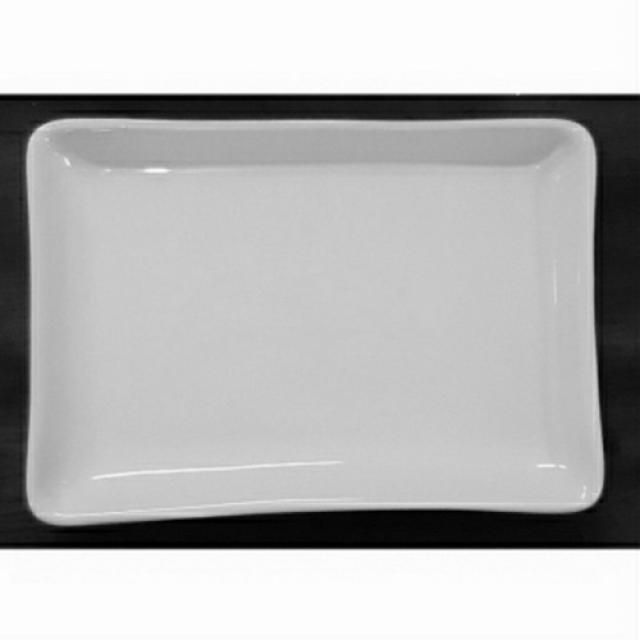dish: (16, 108, 627, 530)
